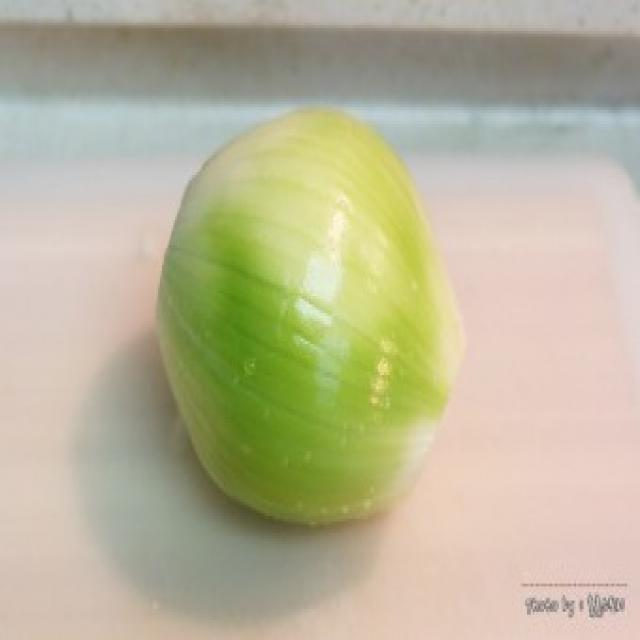onion: (148, 90, 478, 560)
